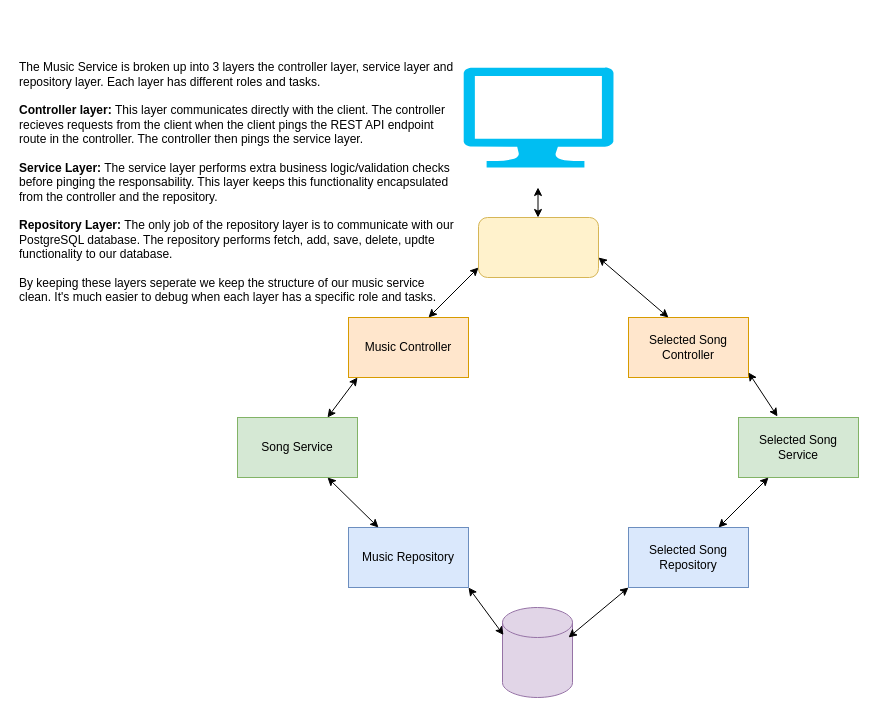
This 876x715 diagram has some shape labels left out. The shapes that lost their labels are listed below. From the top down, each one's box as (x1, y1, x2, y2) in pixels, then its label:
(463, 67, 613, 167): Client
(478, 216, 598, 278): Music Service
(502, 606, 572, 698): Database PostgreSQL
